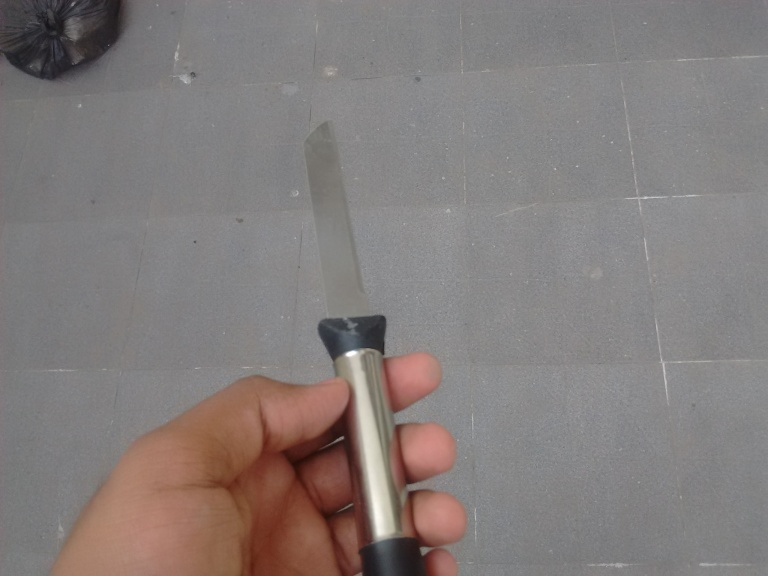knife: (302, 120, 427, 574)
